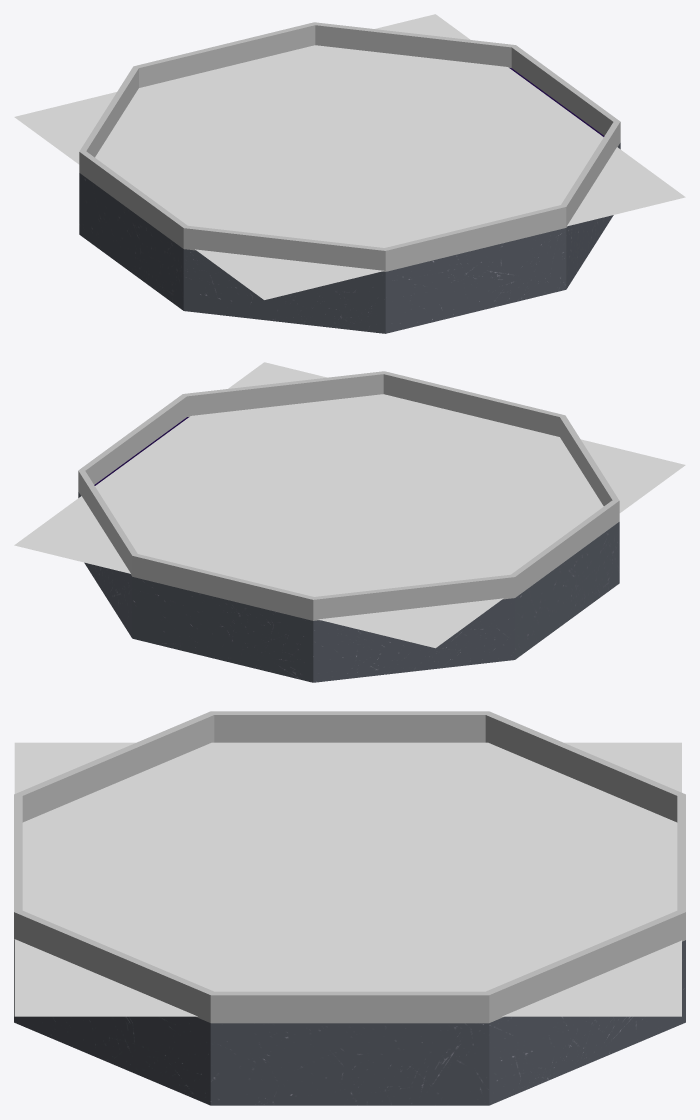
File: Battle_Stage 22.fbx
The picture shows the model from 3 angles, top to bottom: view 1: azimuth 30°, elevation 25°; view 2: azimuth 150°, elevation 25°; view 3: azimuth 270°, elevation 25°; orthographic projection. The views are drawn at different scales.
Parts seen in each view (by area): view 1: Plane.125, HexaGround, HexaGround.001; view 2: Plane.125, HexaGround, HexaGround.001; view 3: Plane.125, HexaGround.001, HexaGround.
Part boxes in pixels (x1,y1,x2,y2): Plane.125: (14,14,685,299); HexaGround: (79,143,620,333); HexaGround.001: (79,22,620,271); Plane.125: (14,362,685,648); HexaGround: (78,492,619,682); HexaGround.001: (78,371,619,620); Plane.125: (14,742,681,1016); HexaGround.001: (14,711,685,1023); HexaGround: (14,940,685,1105).
Size of the model in its own units: 5743 by 1042 by 5743.
